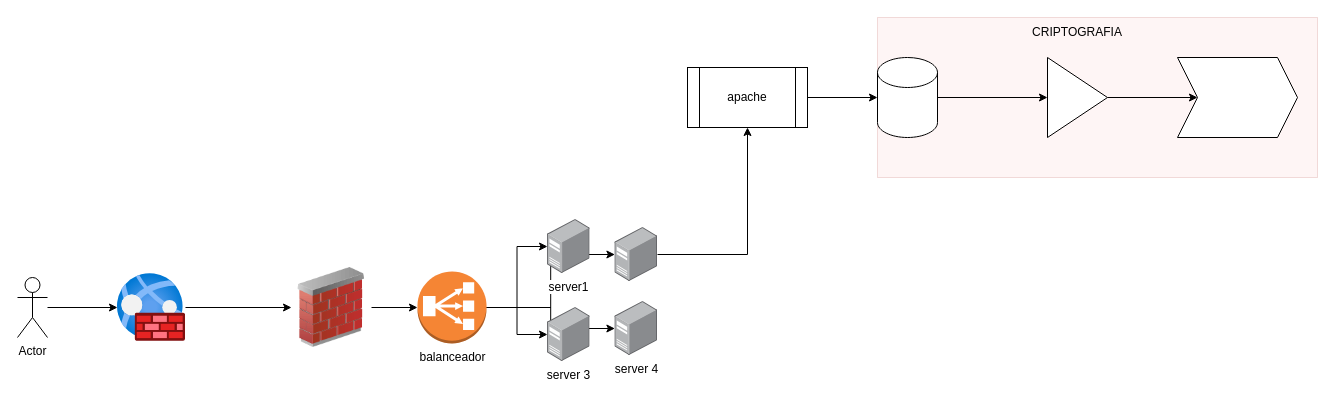
Some shapes in this 1335 by 400 pixel diagram are drawn without their labels. The box of each missing label's shape, as (x1, y1, x2, y2) in pixels:
akamai: (117, 273, 185, 341)
fw borda: (291, 267, 371, 347)
server 2: (614, 227, 657, 281)
